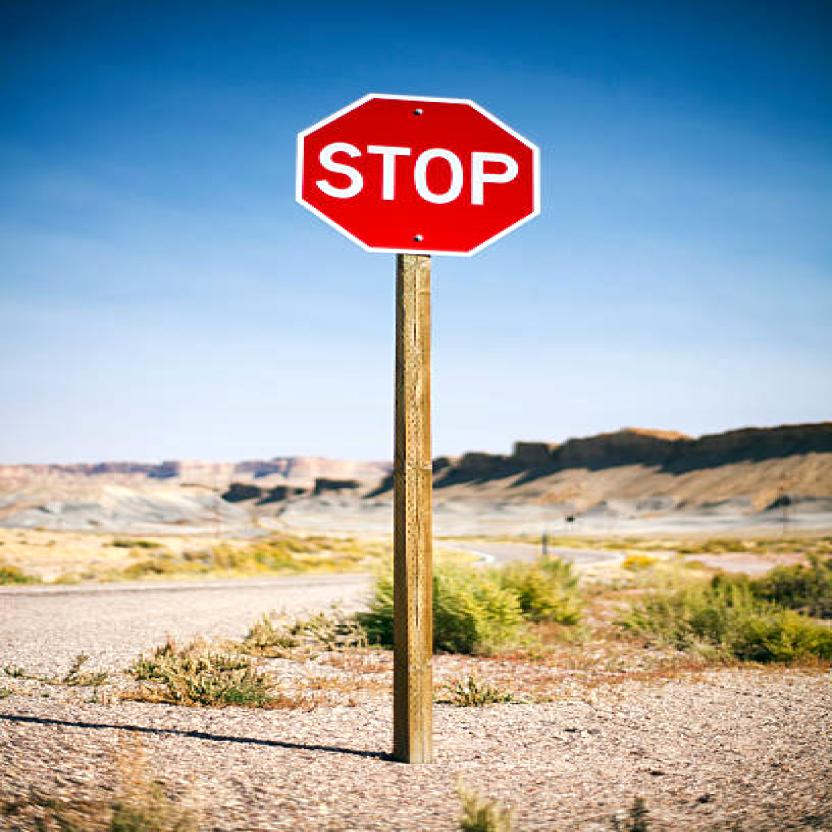Pole: (388, 252, 436, 751)
Sign: (298, 93, 542, 257)
